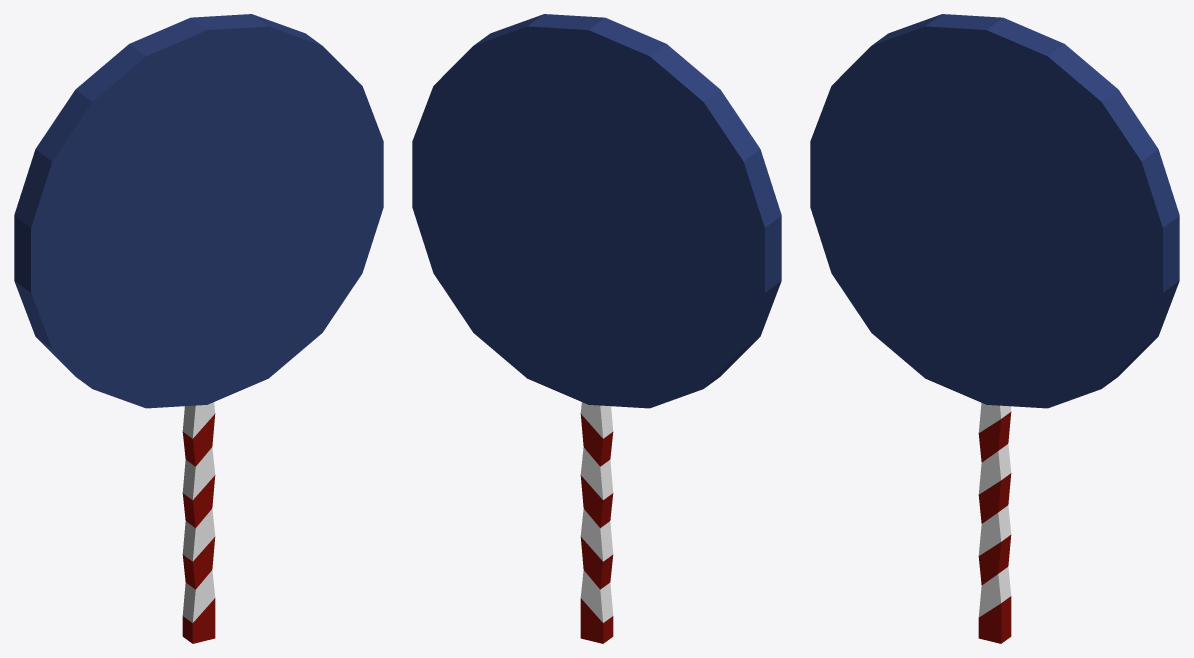
The model's file is Piruleta.fbx.
The picture shows the model from 3 angles, left to right: view 1: azimuth 30°, elevation 25°; view 2: azimuth 150°, elevation 25°; view 3: azimuth 330°, elevation 25°; orthographic projection.
Parts seen in each view (by area): view 1: Piruleta; view 2: Piruleta; view 3: Piruleta.
Part boxes in pixels (left/top/right/bottom): Piruleta: left=14, top=14, right=383, bottom=643; Piruleta: left=412, top=14, right=781, bottom=643; Piruleta: left=810, top=14, right=1179, bottom=643.
Bounding box in the file's own units: 689 × 1146 × 57.42.
